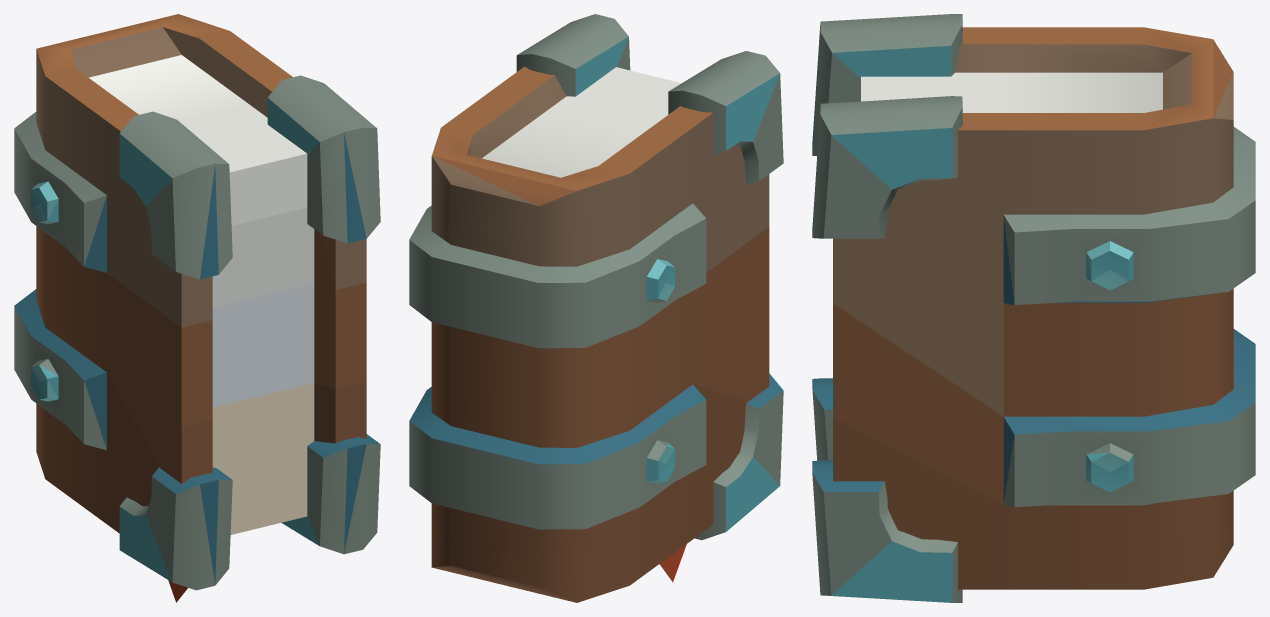
Rendered from itch_kaykit_rpg_tools_journal_closed.glb.
The picture shows the model from 3 angles, left to right: view 1: azimuth 30°, elevation 25°; view 2: azimuth 150°, elevation 25°; view 3: azimuth 270°, elevation 25°; orthographic projection. The views are drawn at different scales.
Visible parts, largest first — view 1: journal_closed; view 2: journal_closed; view 3: journal_closed.
Part boxes in pixels (x1,y1,x2,y2): journal_closed: (14,14,380,602); journal_closed: (409,14,783,602); journal_closed: (812,14,1255,602).
Bounding box in the file's own units: 0.7952 × 1.64 × 1.18.
